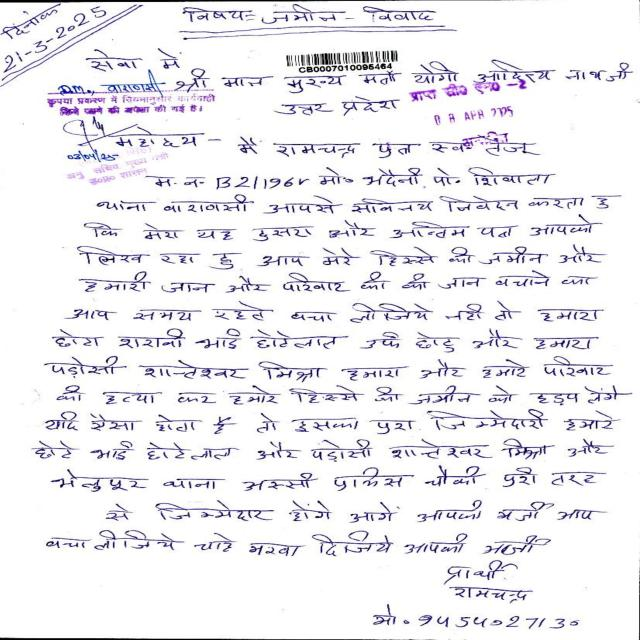antritgovtstamp: (403, 72, 533, 151)
barcode: (287, 50, 402, 74)
pinkstamp: (35, 92, 224, 113)
signnamestamp: (53, 112, 198, 194)
